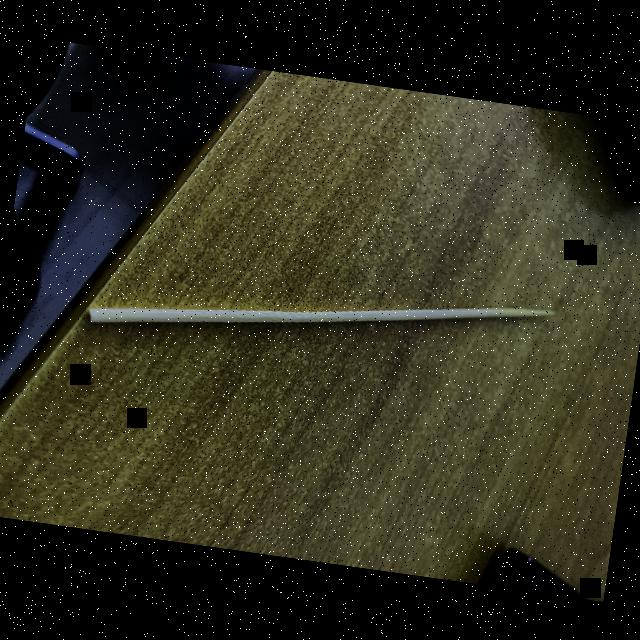stick: (44, 196, 568, 420)
